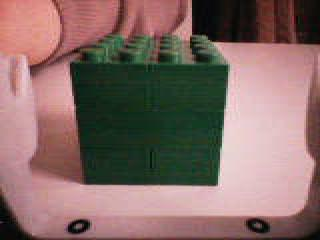legocube: (64, 32, 232, 191)
